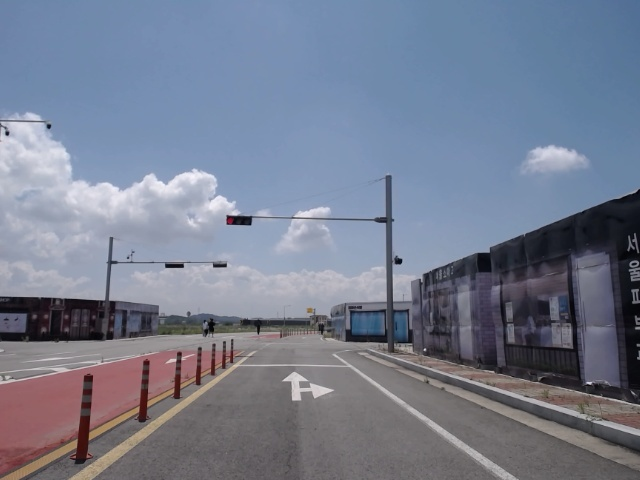red_3: (225, 212, 254, 226)
